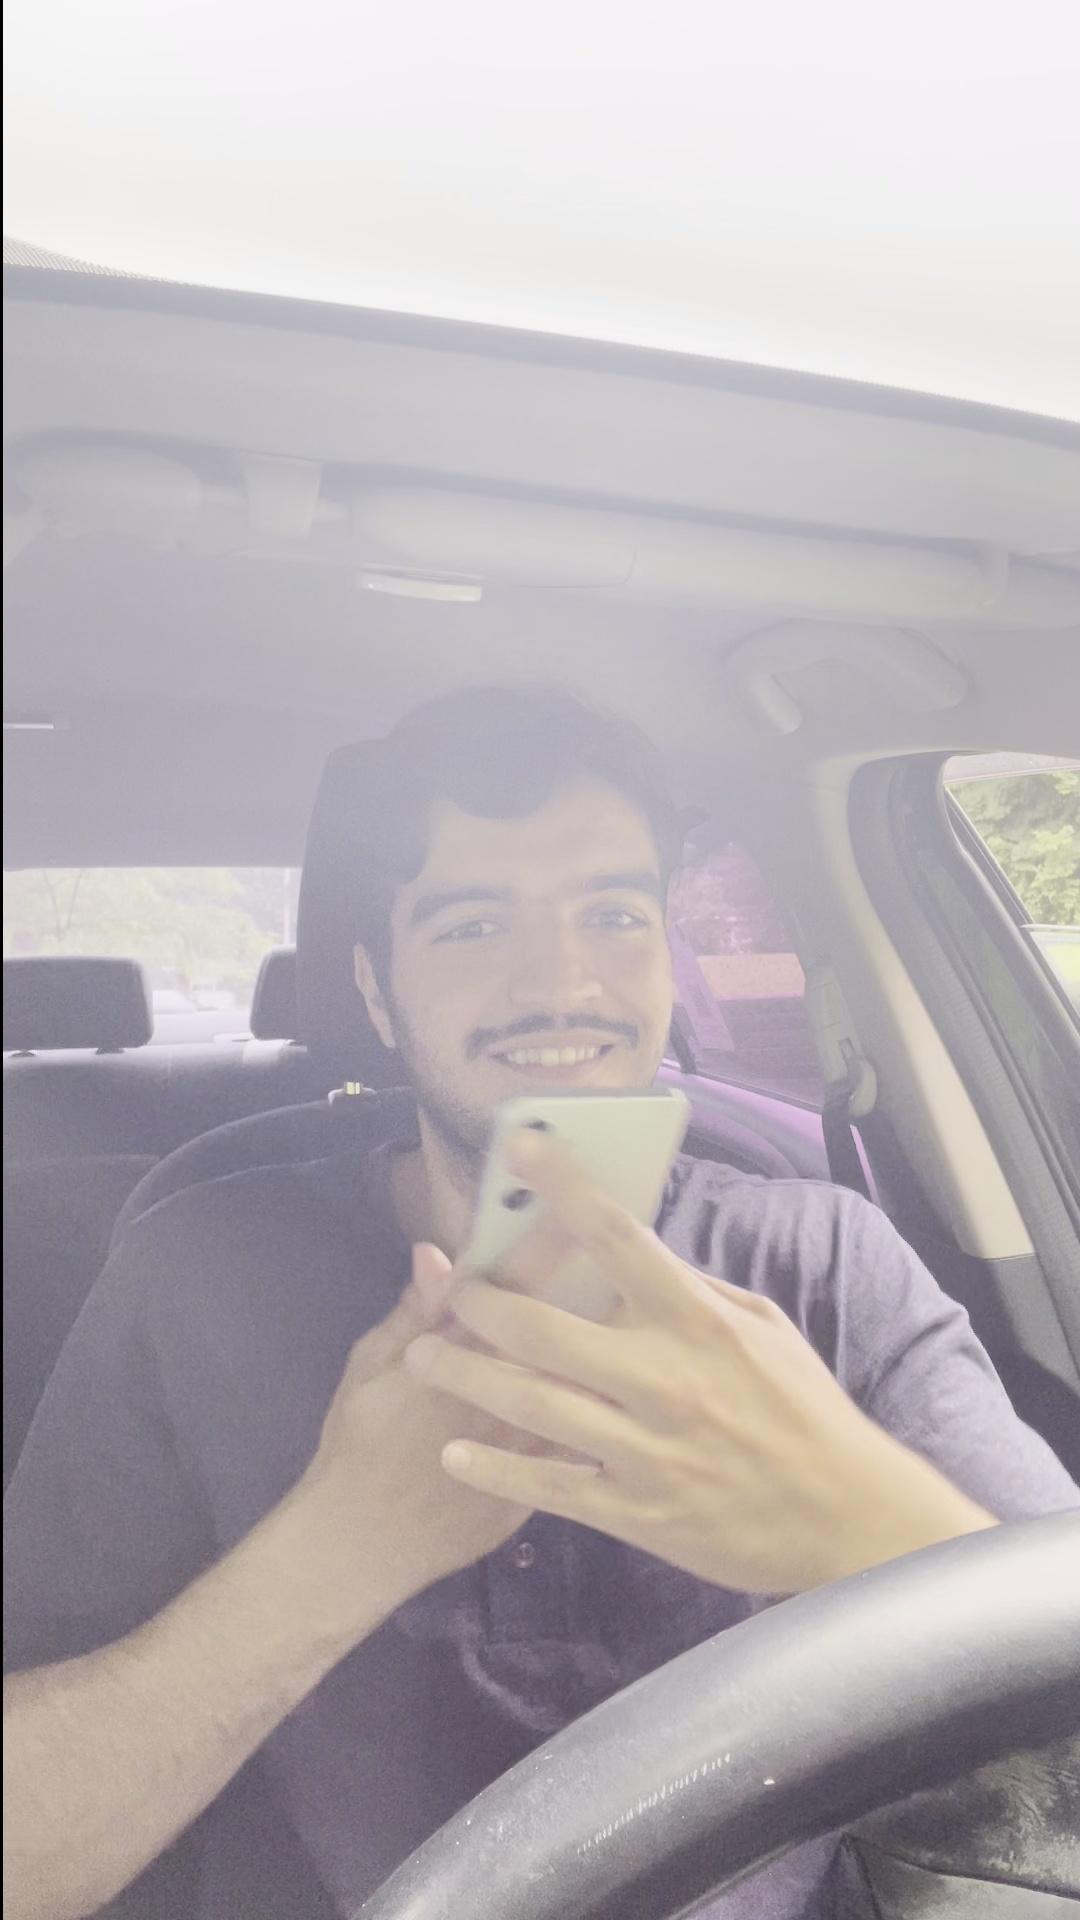mobile: (450, 1084, 716, 1333)
